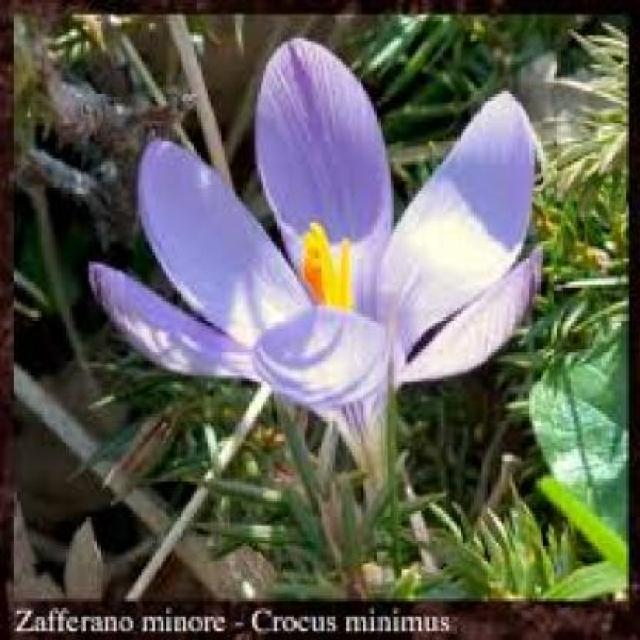Flower: (95, 40, 539, 446)
